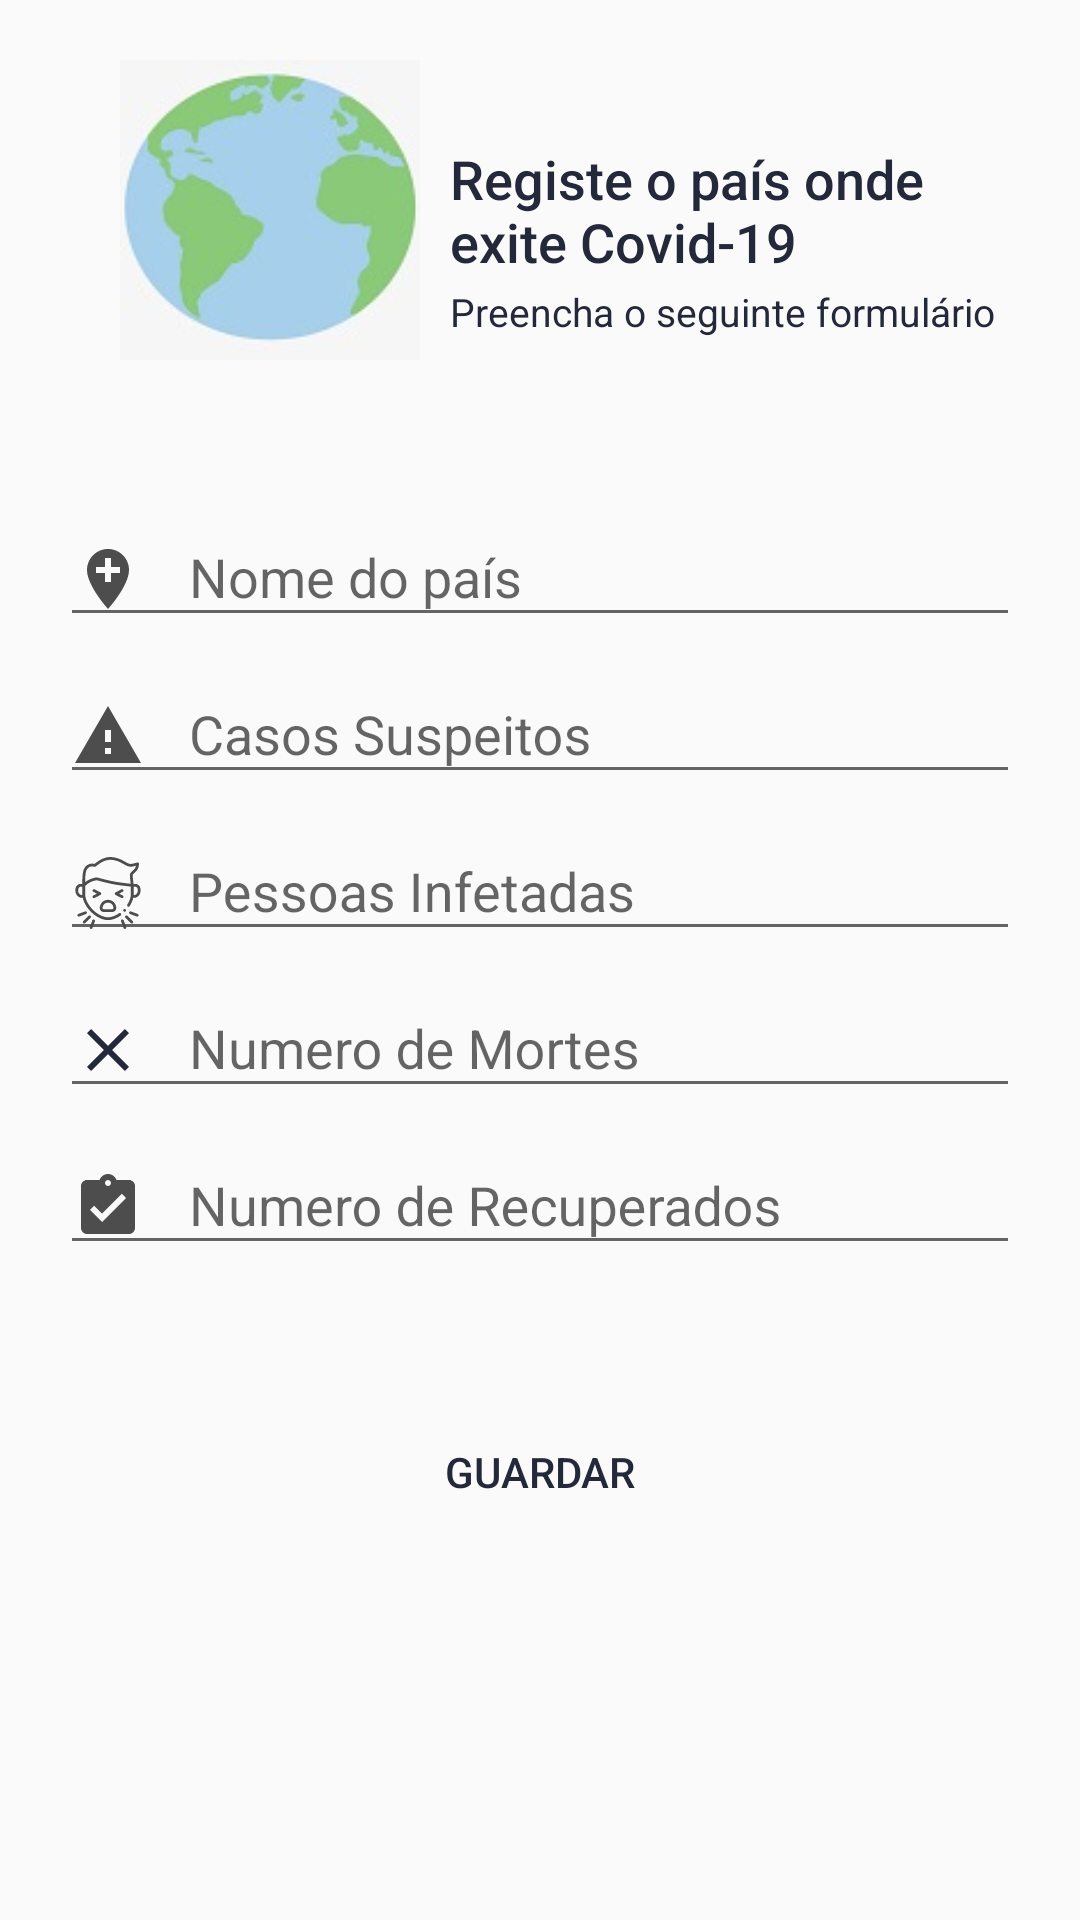

Point at icon controls on the screen. Image size 1080 x 1920, points as point (x, y).
mundo: point (270, 207)
